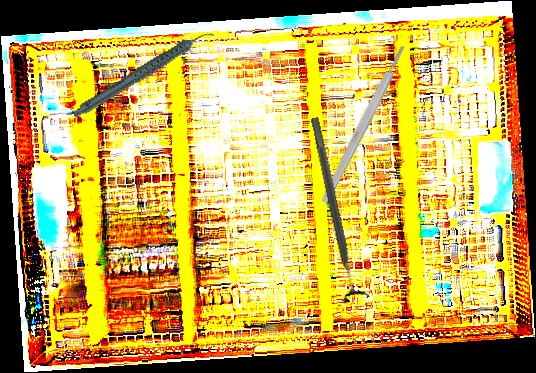Fixation Ring: (299, 114, 372, 304)
Handpiece: (62, 29, 226, 120)
Scalpel Handle: (319, 44, 409, 205)
